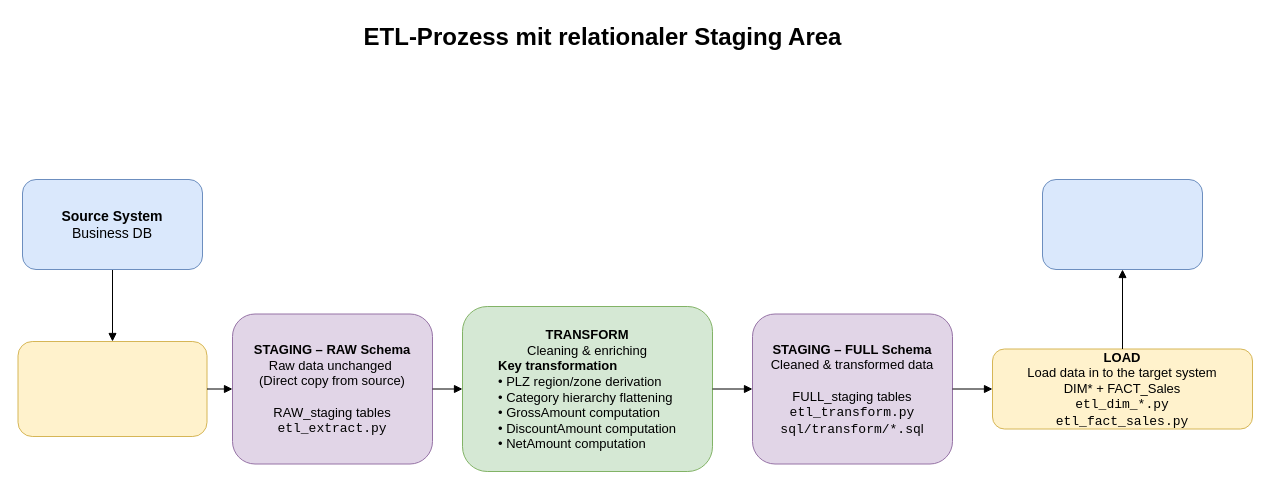
The diagram is 1270 pixels wide and 489 high, and some of its shapes have lost their labels. The box of each missing label's shape, as (x1, y1, x2, y2) in pixels:
EXTRACT Select data (Full Load): (17, 340, 207, 436)
Target system DWH: (1042, 178, 1202, 270)
